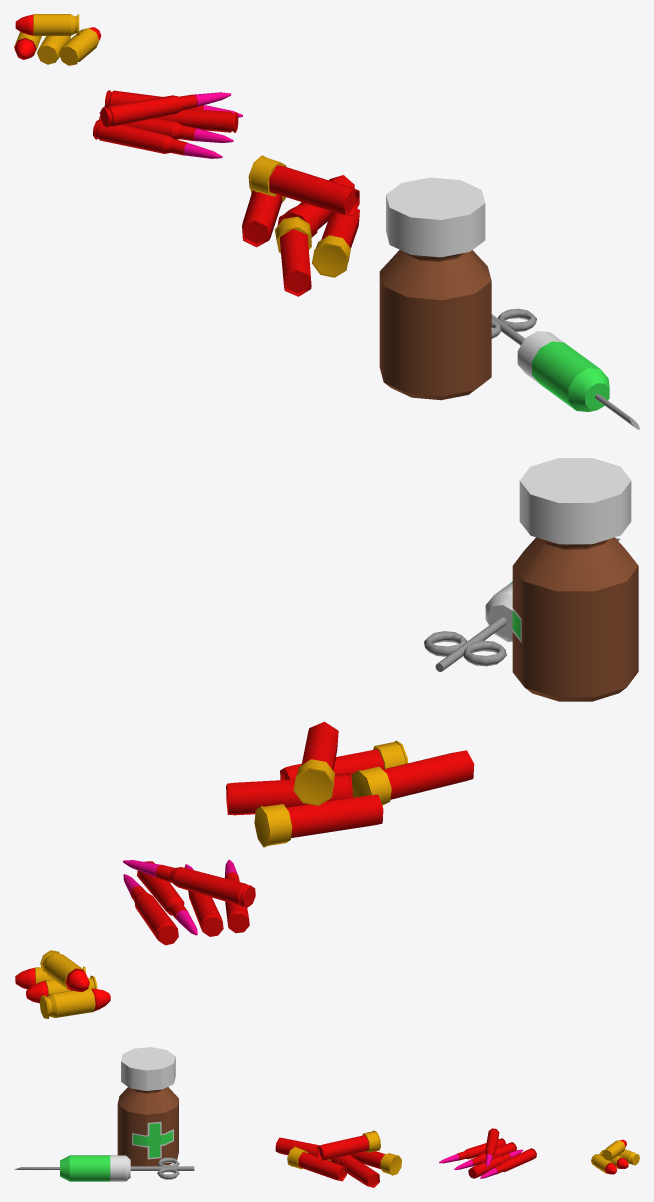
The model's file is items.fbx.
The picture shows the model from 3 angles, top to bottom: view 1: azimuth 30°, elevation 25°; view 2: azimuth 150°, elevation 25°; view 3: azimuth 270°, elevation 25°; orthographic projection. The views are drawn at different scales.
Parts seen in each view (by area): view 1: heal, shotgun_ammo, rifle_ammo, pistol_ammo; view 2: heal, shotgun_ammo, rifle_ammo, pistol_ammo; view 3: heal, shotgun_ammo, rifle_ammo, pistol_ammo.
Part boxes in pixels (x1,y1,x2,y2): heal: (379,177,639,429); shotgun_ammo: (242,155,359,296); rifle_ammo: (93,90,242,158); pistol_ammo: (14,14,101,65); heal: (423,458,638,701); shotgun_ammo: (226,721,474,847); rifle_ammo: (123,859,255,945); pistol_ammo: (15,950,110,1018); heal: (14,1047,194,1181); shotgun_ammo: (275,1130,401,1187); rifle_ammo: (439,1128,536,1178); pistol_ammo: (591,1139,639,1174).
Size of the model in its own units: 9.81 by 10.17 by 57.66.
